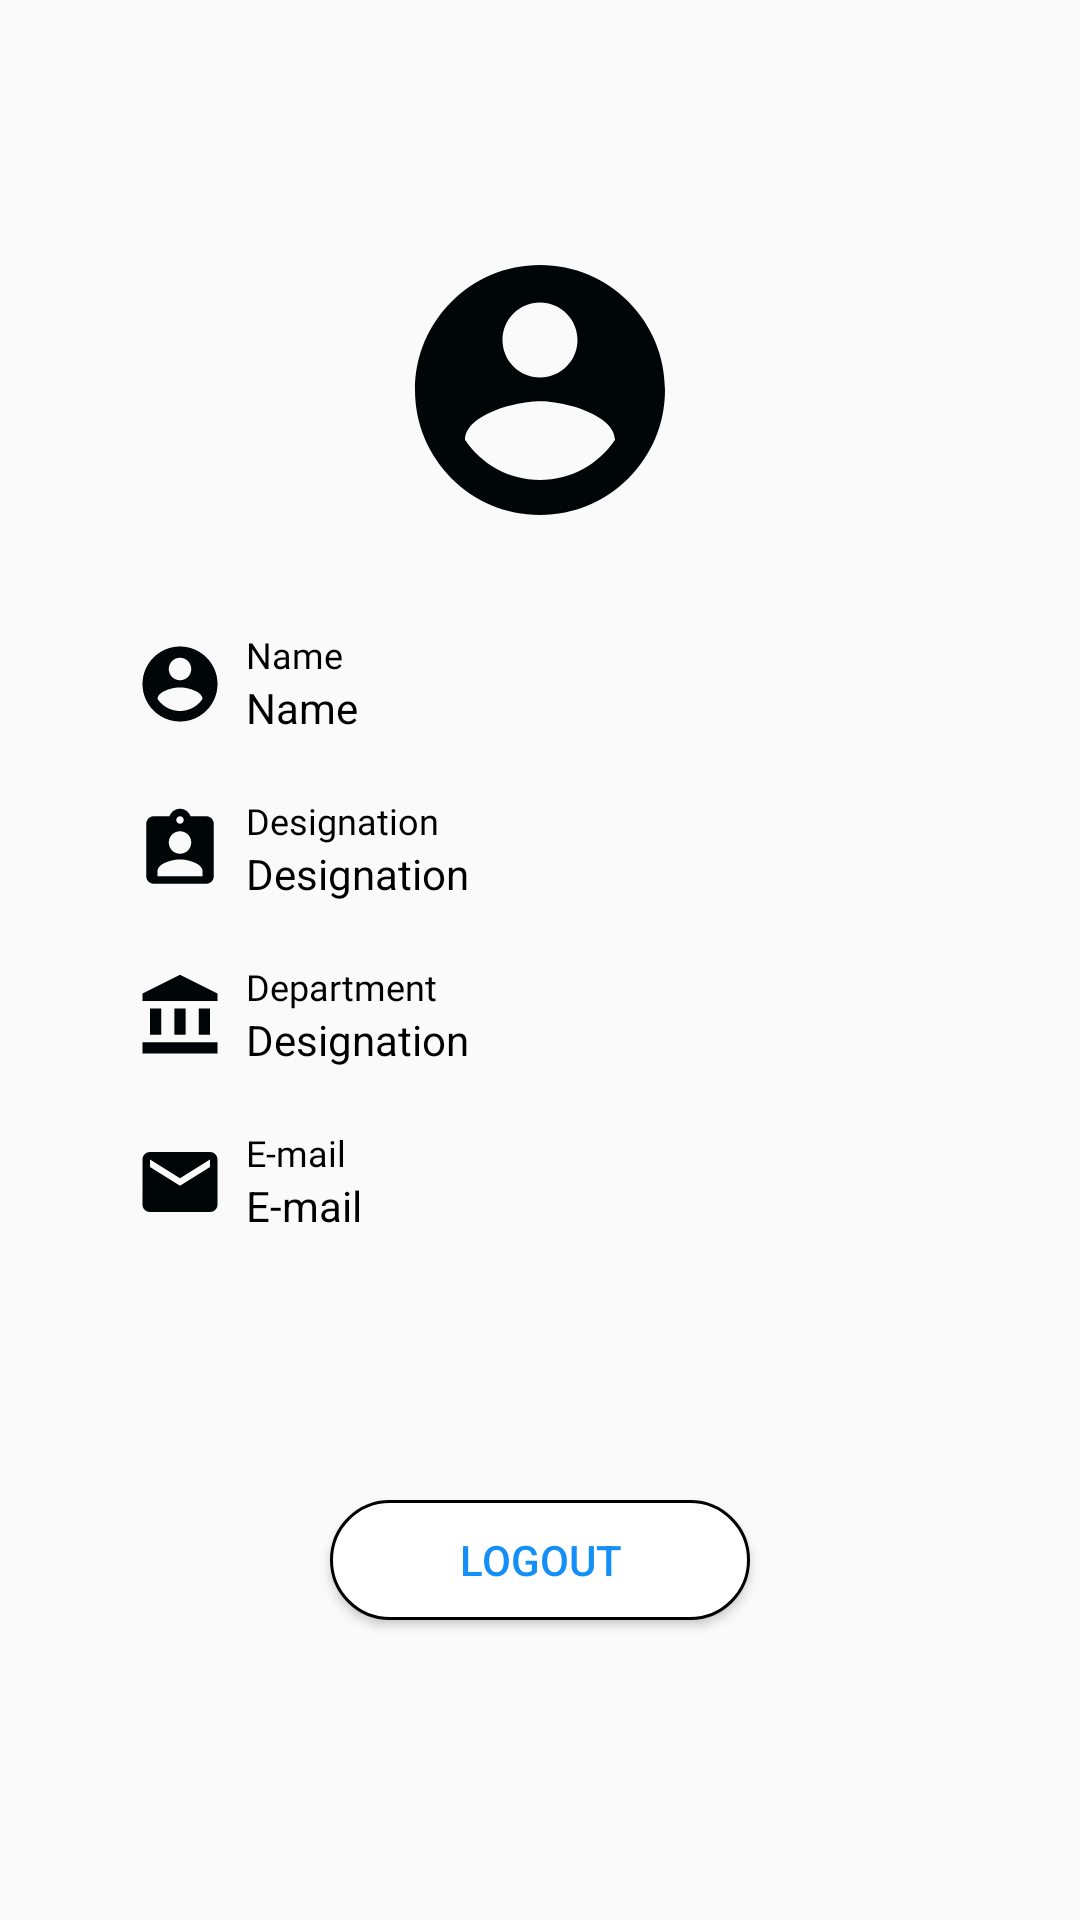

Icon bounding boxes for this 1080x1920 phone screenshot, format BBox(x1, y1, x2, y2):
account circle: BBox(415, 265, 665, 515), BBox(142, 646, 218, 722)
